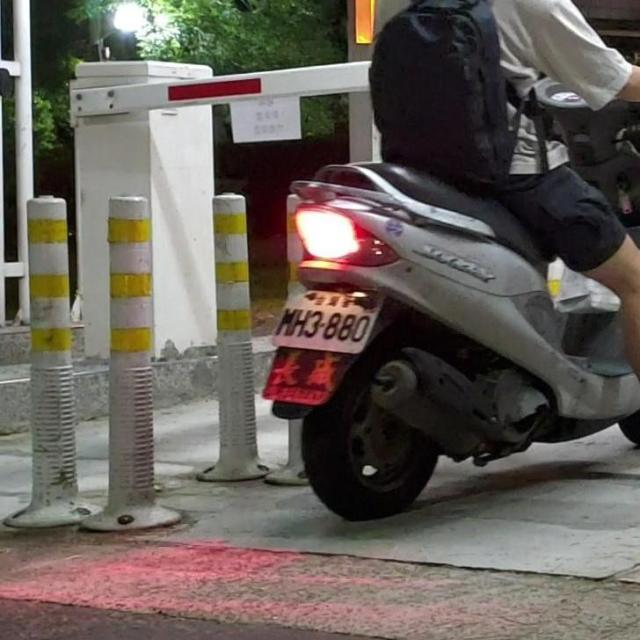W: (270, 285, 384, 355)
